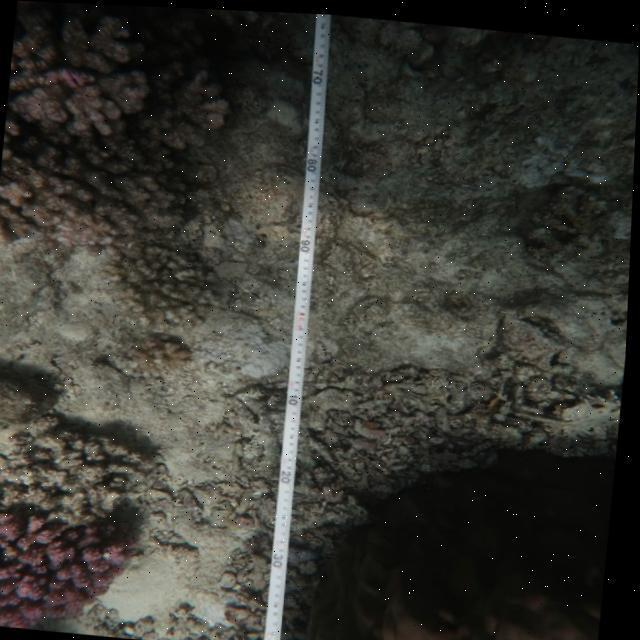Healthy Coral: (0, 506, 149, 638)
